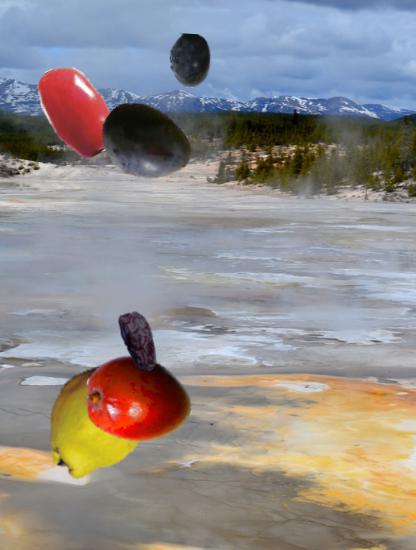Blueberry: (163, 34, 217, 88)
Dates: (108, 309, 171, 372)
Mango: (84, 346, 193, 455)
Plum: (99, 97, 193, 191)
Quince: (36, 360, 156, 480)
Tomato: (28, 62, 125, 159)
